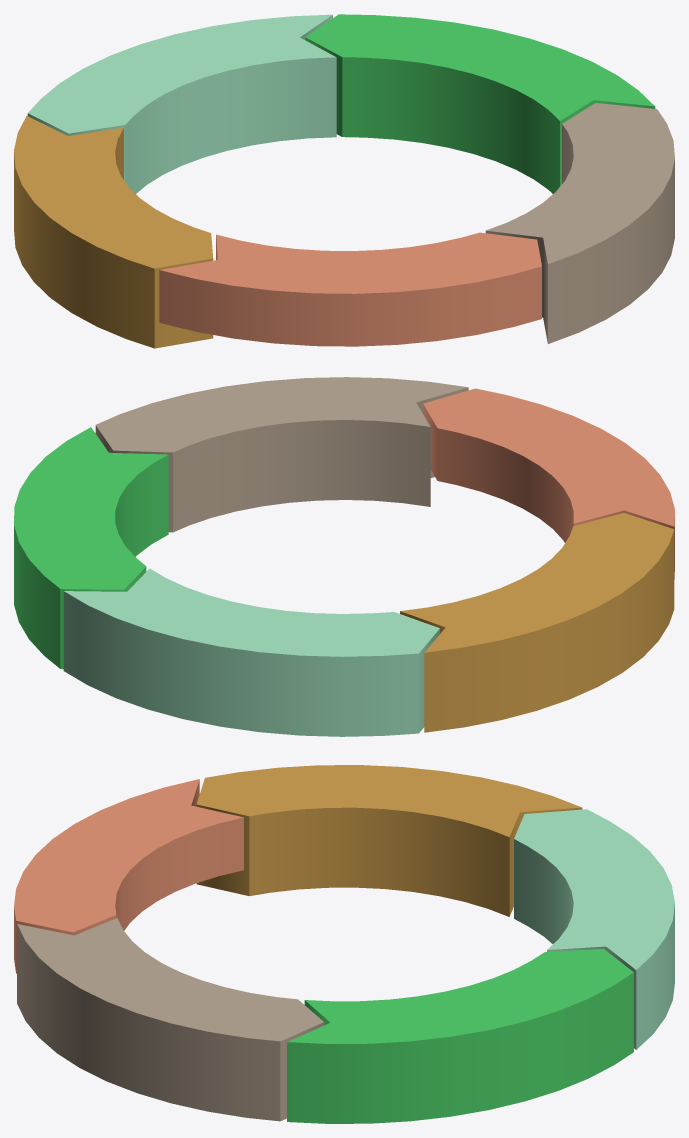
3 views of the same model, one above another, from view 1: azimuth 30°, elevation 25°; view 2: azimuth 150°, elevation 25°; view 3: azimuth 270°, elevation 25° (orthographic).
Parts seen in each view (by area): view 1: color_1, color_2, color_3, color_4, color_5; view 2: color_3, color_5, color_4, color_2, color_1; view 3: color_2, color_4, color_5, color_3, color_1.
Part boxes in pixels (x1,y1,x2,y2): color_1: (159,232,541,346); color_2: (305,14,655,193); color_3: (27,14,336,193); color_4: (14,116,213,348); color_5: (485,103,674,343); color_3: (63,568,439,736); color_5: (95,377,468,532); color_4: (400,513,674,732); color_2: (14,427,168,669); color_1: (423,388,674,579); color_2: (287,948,633,1123); color_4: (196,765,582,916); color_5: (17,918,324,1121); color_3: (514,809,674,1049); color_1: (14,779,243,973).
Size of the model in its own units: 7.87 by 1.05 by 7.88.
